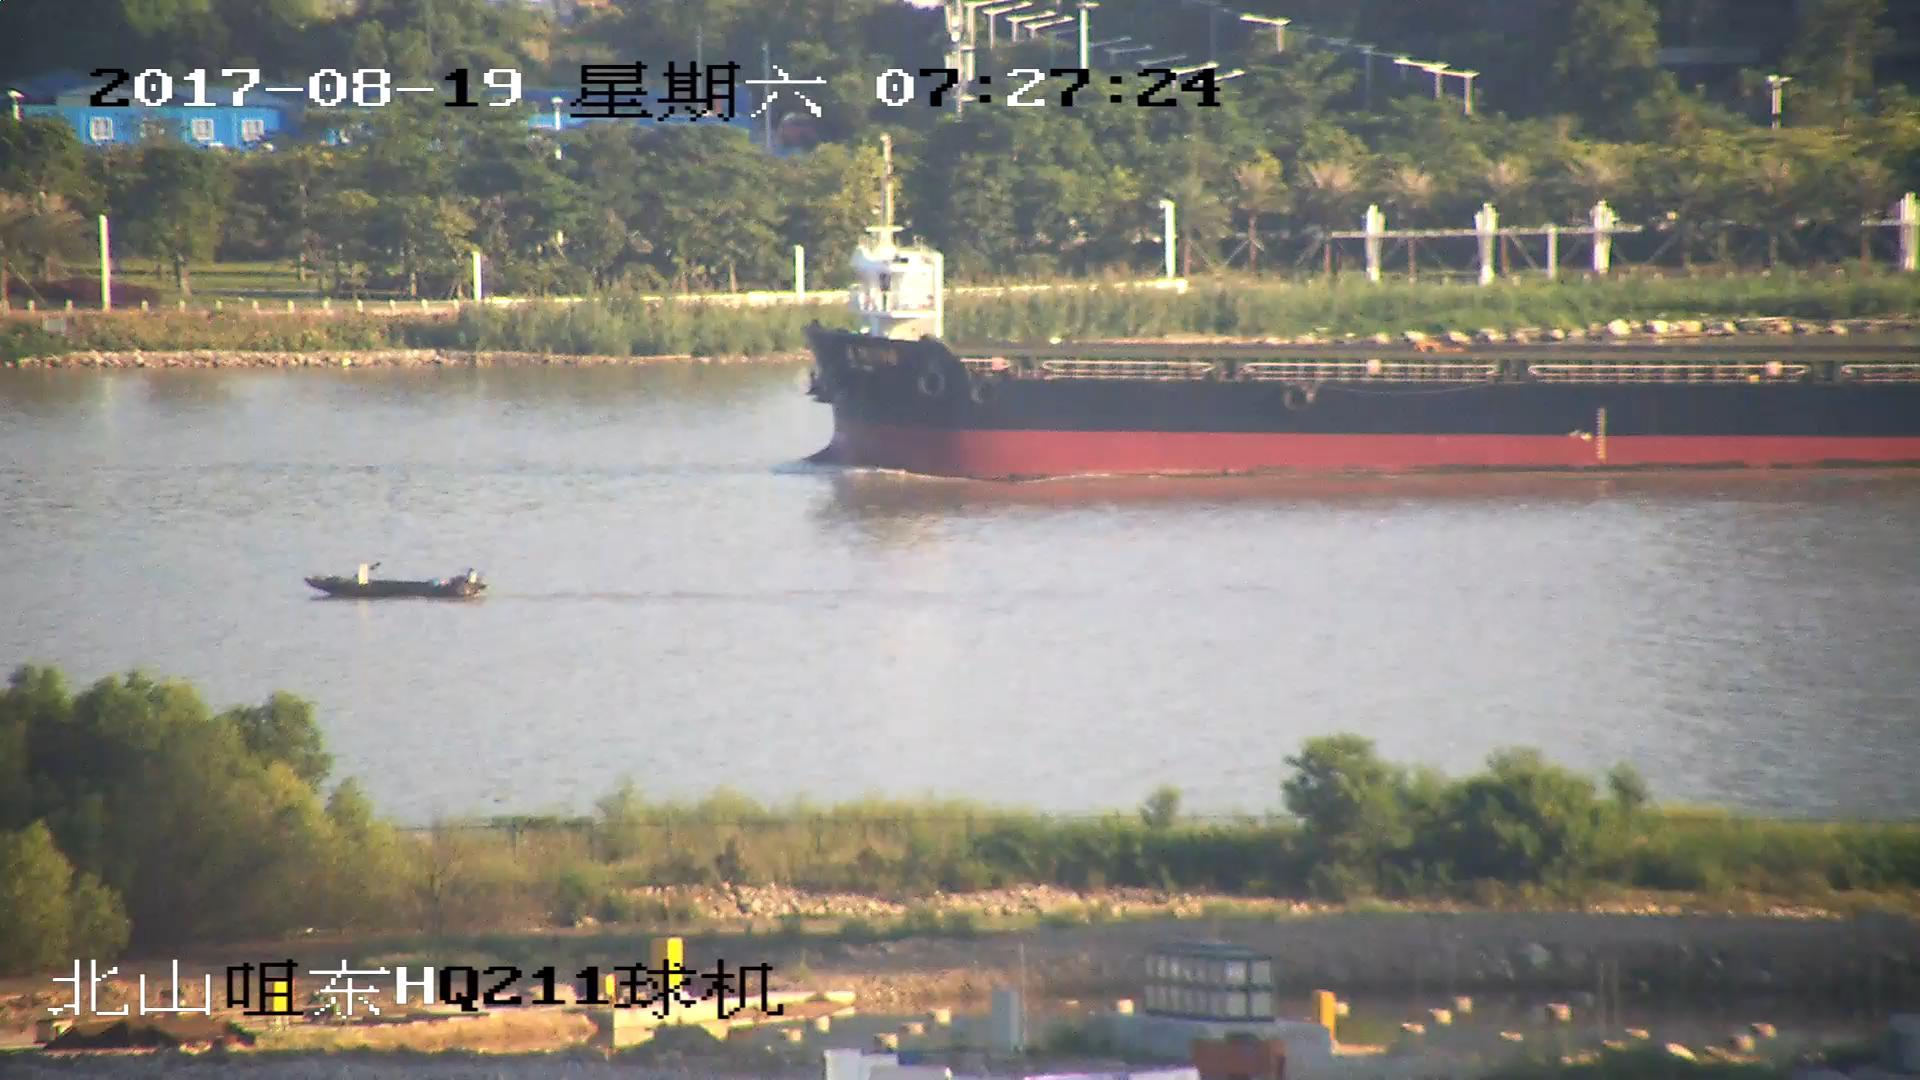Ship: (800, 222, 1920, 481), (309, 564, 483, 609)
